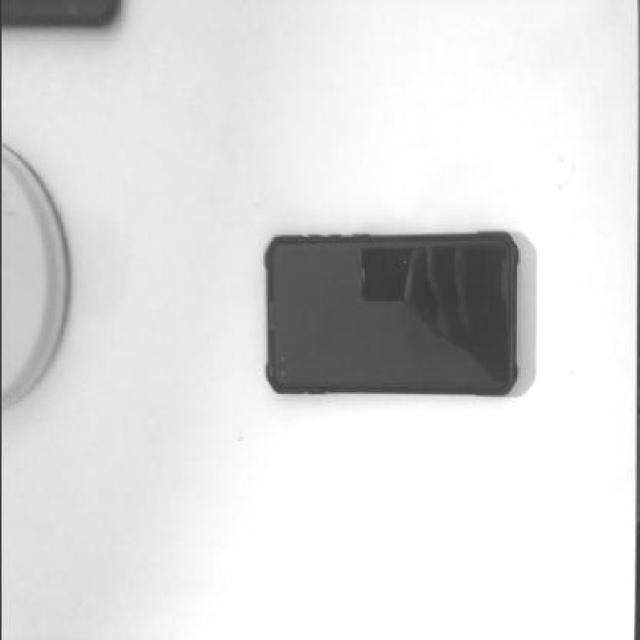fake: (262, 234, 518, 398)
